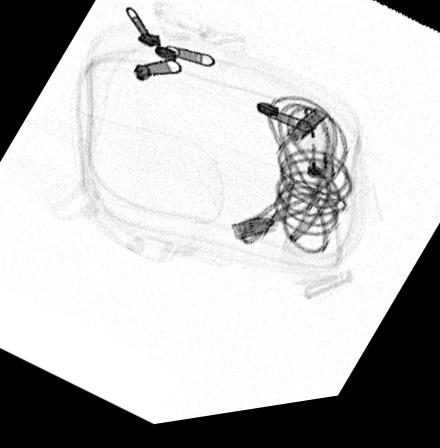Lighter: (298, 113, 334, 190)
